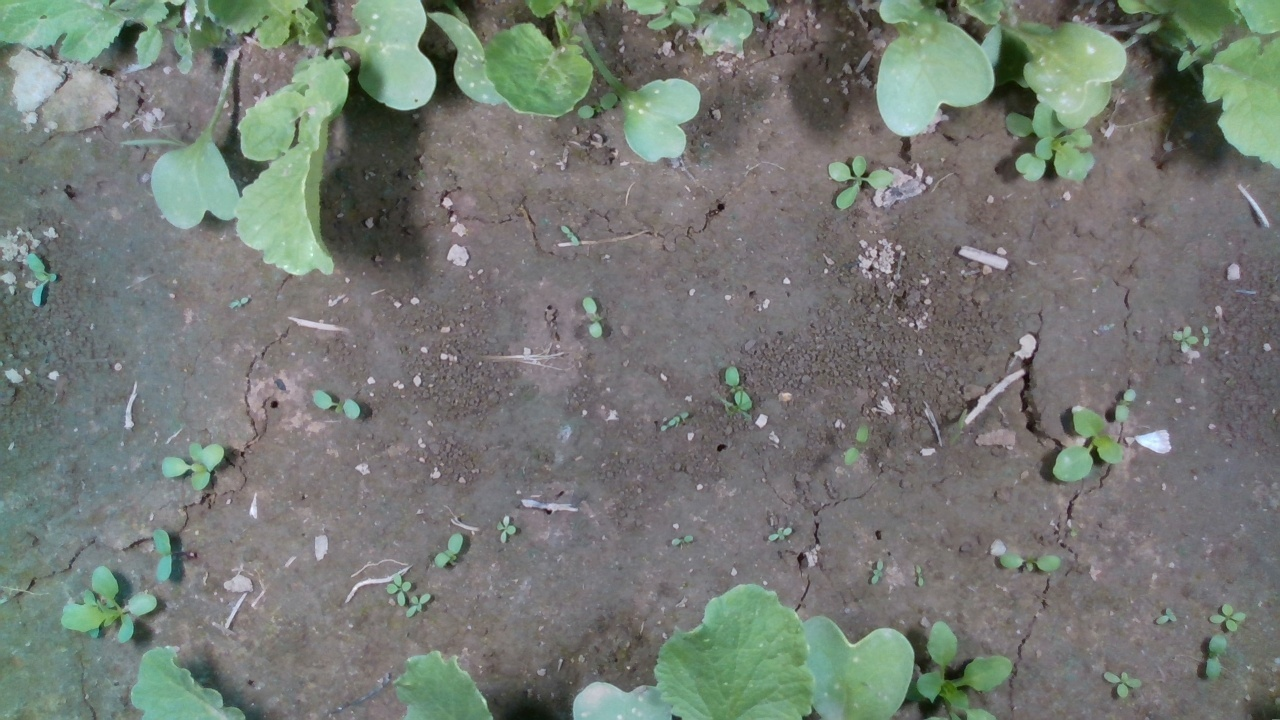weed: (825, 153, 898, 211), (309, 388, 362, 422), (997, 551, 1063, 573), (1201, 634, 1230, 682), (840, 422, 870, 468), (149, 528, 174, 583), (1099, 668, 1143, 698), (1205, 603, 1248, 632), (579, 294, 606, 340), (431, 532, 464, 569), (1169, 323, 1200, 355), (1113, 386, 1137, 424), (494, 515, 518, 545), (1153, 605, 1181, 628), (867, 557, 888, 586), (764, 524, 794, 544), (556, 224, 582, 246), (669, 534, 697, 548), (913, 563, 928, 588), (1200, 323, 1213, 348)
